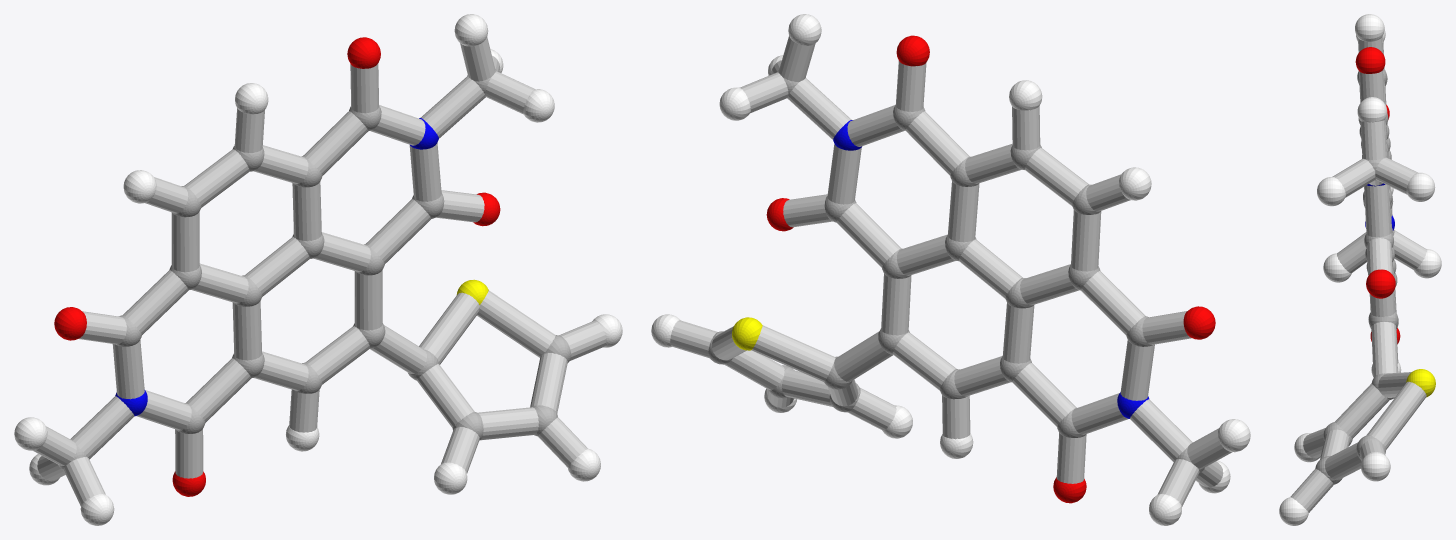
File: color.glb
3 views of the same model, side by side, from view 1: azimuth 30°, elevation 25°; view 2: azimuth 150°, elevation 25°; view 3: azimuth 270°, elevation 25° (orthographic). The views are drawn at different scales.
Parts seen in each view (by area): view 1: grp14119, grp7241, grp1, grp12309, grp11585; view 2: grp14119, grp7241, grp1, grp12309, grp11585, grp13757; view 3: grp14119, grp7241, grp1, grp12309, grp13757.
Part boxes in pixels (x1,y1,x2,y2): grp14119: (33,36,606,506); grp7241: (14,14,622,525); grp1: (58,68,571,470); grp12309: (54,37,500,496); grp11585: (115,118,438,416); grp14119: (670,36,1232,506); grp7241: (651,14,1250,525); grp1: (708,70,1204,473); grp12309: (766,35,1215,503); grp11585: (833,120,1149,418); grp13757: (732,317,762,350); grp14119: (1290,36,1426,512); grp7241: (1279,14,1441,525); grp1: (1315,69,1398,484); grp12309: (1355,47,1400,344); grp13757: (1406,369,1435,397).
Size of the model in its own units: 12.39 by 8.9 by 3.28.
